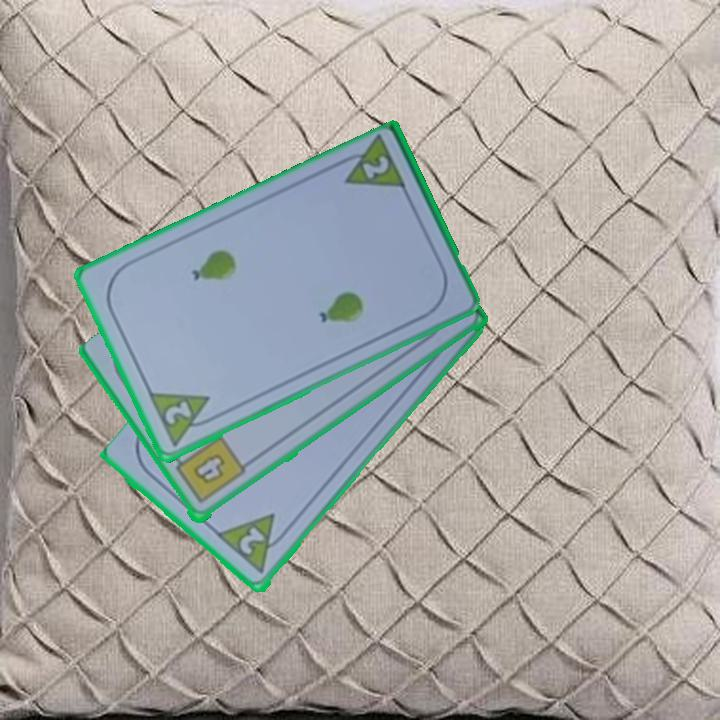2p: (215, 510, 293, 578), (160, 397, 195, 428), (358, 152, 392, 183)
4b: (170, 433, 248, 507)
